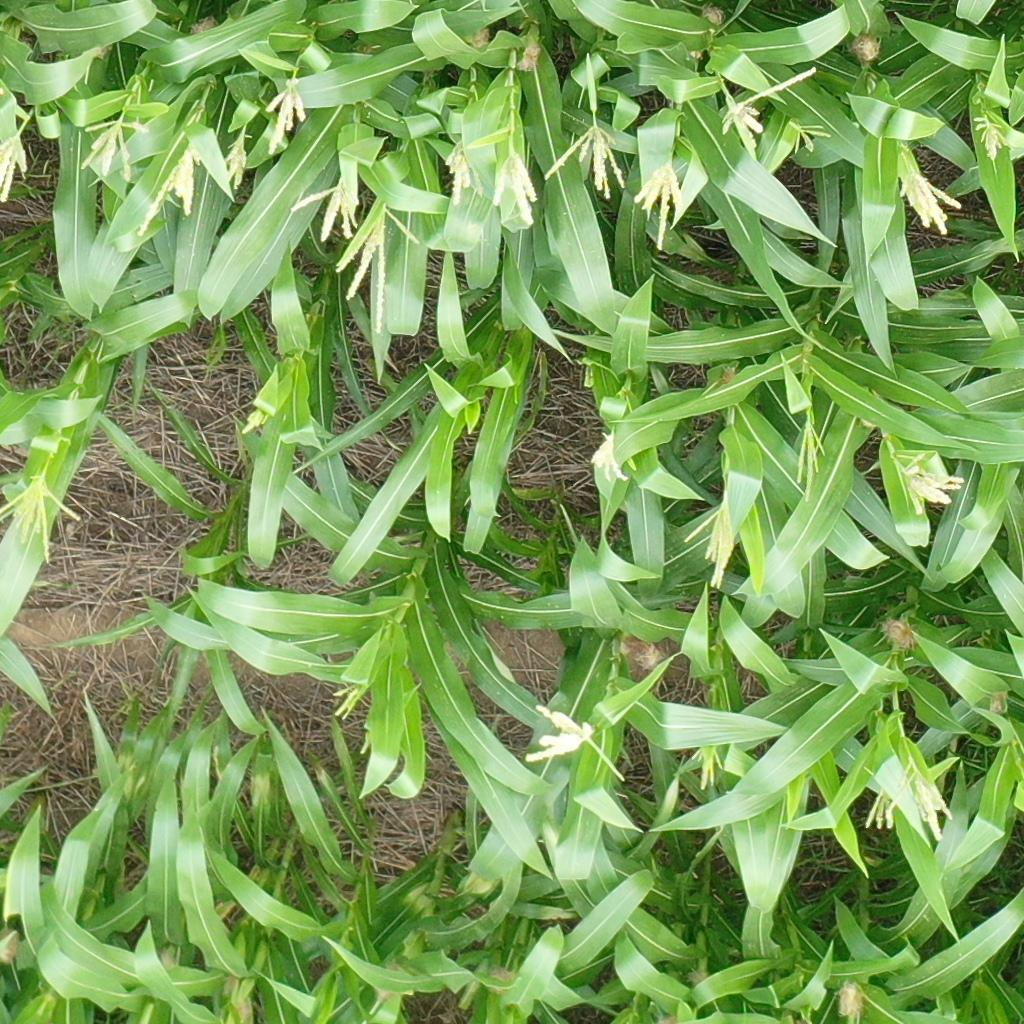Tassel: (327, 206, 422, 336), (862, 753, 957, 843), (1, 473, 86, 564), (715, 66, 817, 138), (135, 141, 207, 240), (540, 123, 630, 201), (684, 491, 739, 590), (632, 159, 685, 258), (517, 699, 597, 764), (289, 177, 362, 244), (80, 117, 150, 184), (897, 168, 964, 237), (900, 450, 967, 515), (491, 151, 543, 227), (262, 80, 308, 156), (790, 421, 827, 501), (439, 144, 476, 205), (588, 430, 630, 483), (1, 134, 30, 205), (687, 745, 727, 794), (223, 130, 253, 193), (327, 680, 366, 723), (973, 115, 1007, 164), (787, 120, 832, 155), (242, 403, 266, 436)
